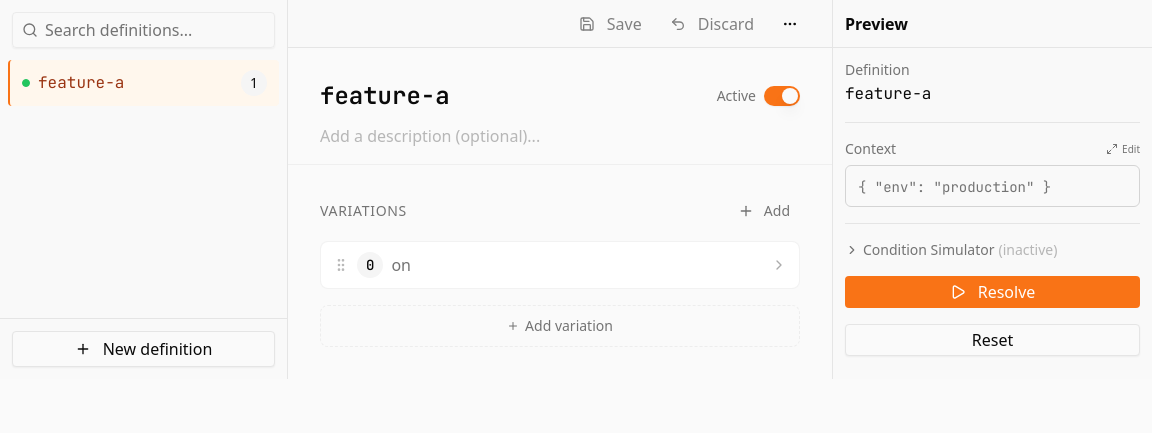
Test: Configurator async action handling › keeps rename mode open when renameDefinition rejects
Step 1. Click the button with aria-label "Rename definition key" → [385, 96], box [320, 80, 701, 112]
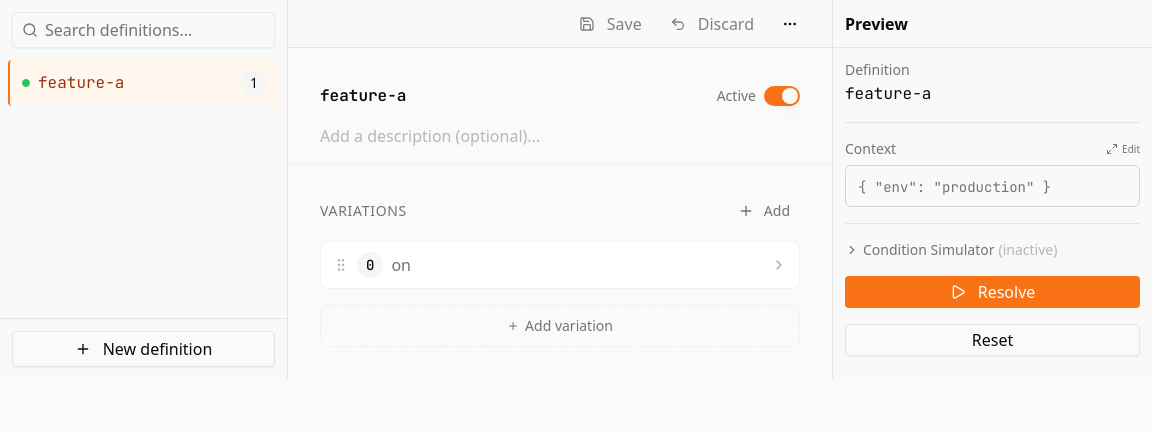
// Now an input appears with the current key value
Step 2. Replace the text in the field showing "feature-a" with "feature-renamed" → [510, 96], box [320, 80, 701, 112]
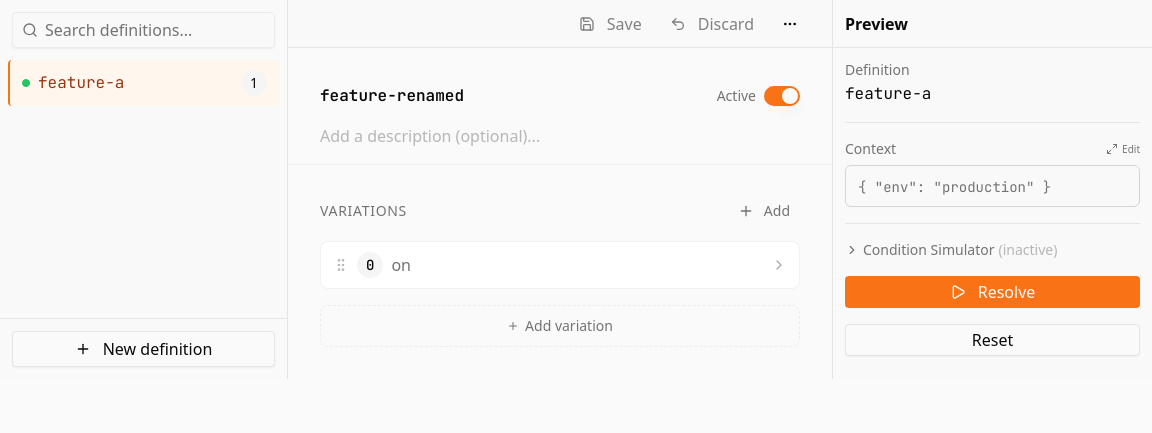
Step 3. Leave the field showing "feature-renamed", box [320, 80, 701, 112]
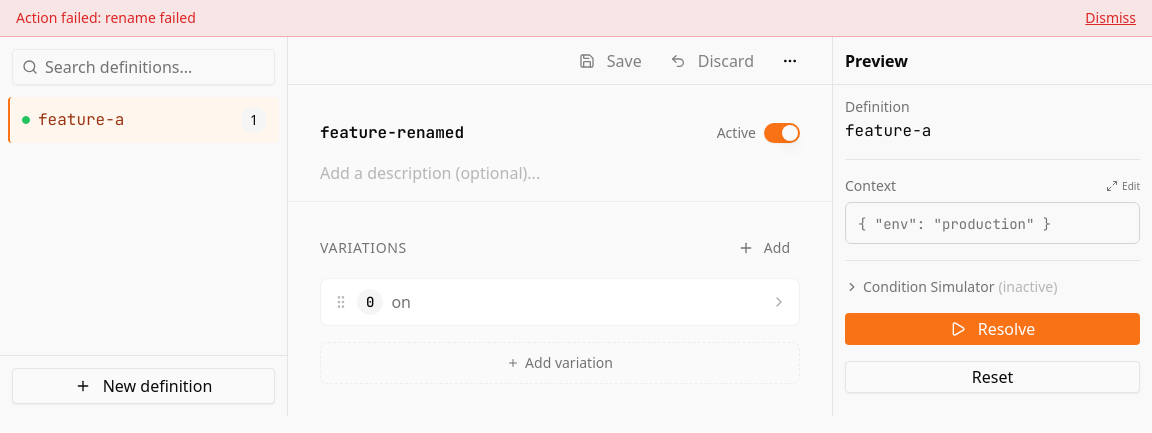
Expected: the text "Action failed: rename failed" is shown, [16, 8, 196, 28]
